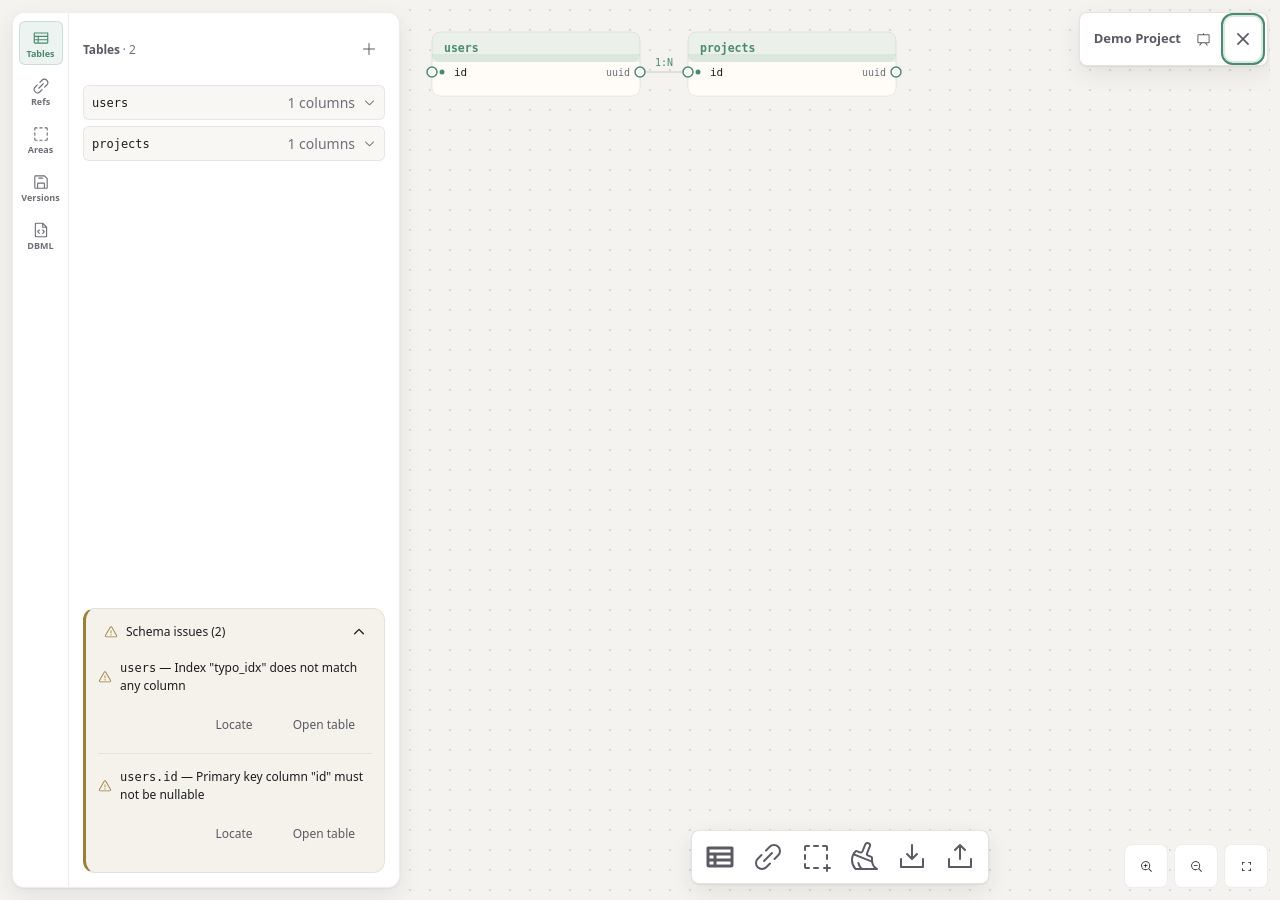
Test: SchemaPage U1 ERD canvas mode › Presentasi: chrome hilang (top/panel/zoom), X floating muncul + fokus; Esc kembali utuh
Click the button named "Present" at (1203, 39), box x1=1185 y1=17 x2=1221 y2=61
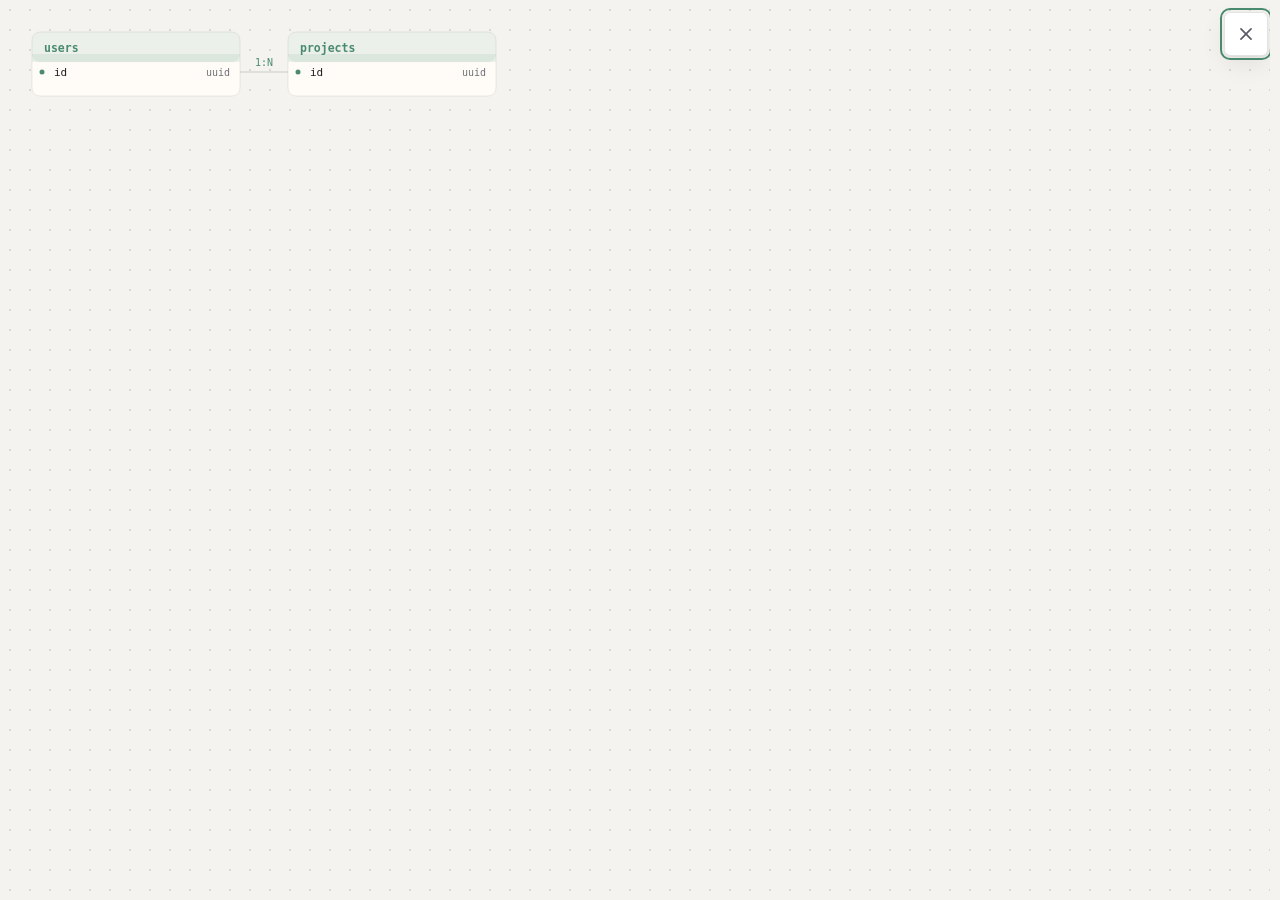
# Esc keluar presentasi, fokus kembali ke tombol Presentasi, seleksi utuh.
Press Escape in the button named "Exit presentation", box x1=1224 y1=12 x2=1268 y2=56
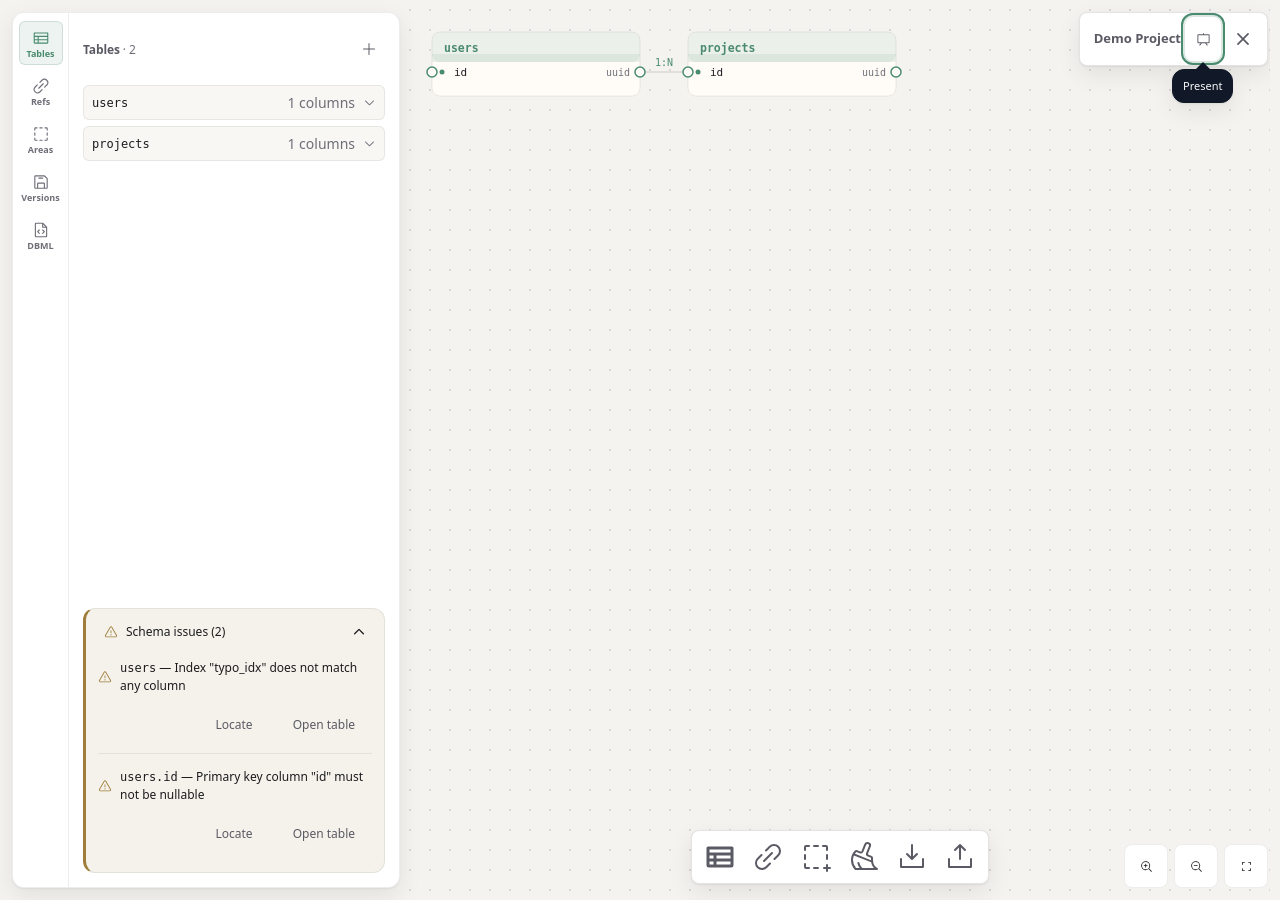
expect the element named "ERD canvas tools" is shown: met, box x1=691 y1=830 x2=989 y2=884
